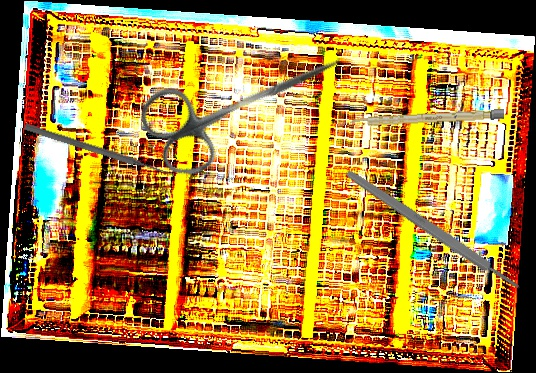Iris Scissors: (133, 15, 358, 186)
Pusher: (23, 121, 176, 181)
Scalpel Handle: (343, 166, 523, 294), (349, 108, 505, 128)
